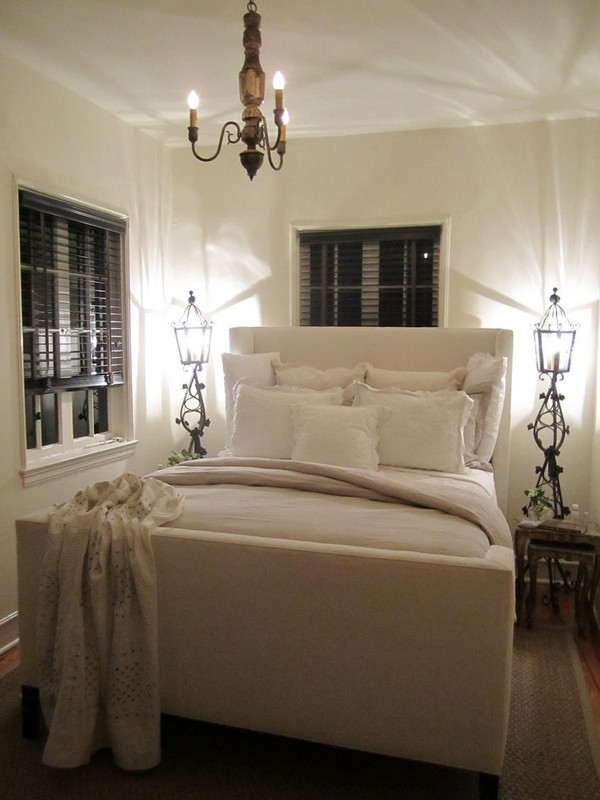bed: (21, 326, 518, 784)
lamp: (530, 275, 581, 531), (168, 286, 216, 462)
stool: (508, 515, 599, 644)
